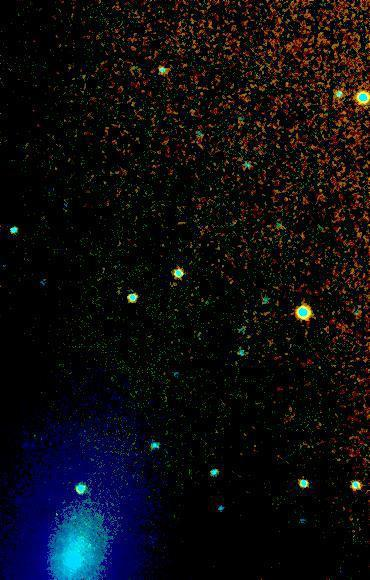star: (74, 532, 104, 562)
